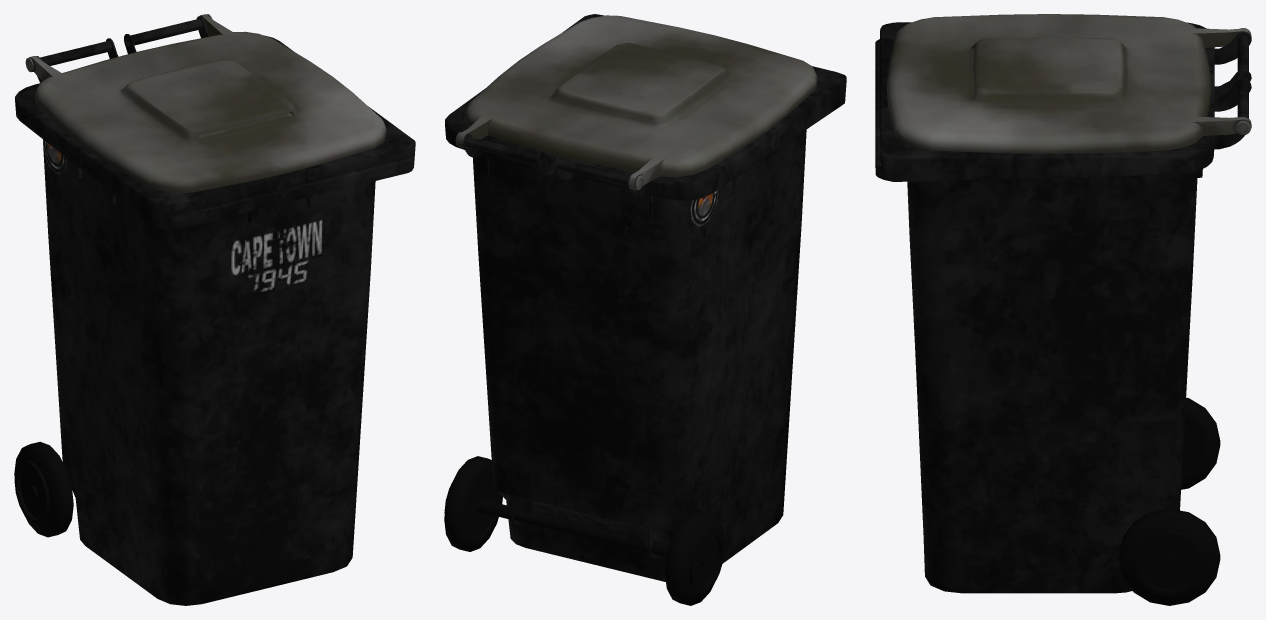
File: wheelie_bin.glb
The picture shows the model from 3 angles, left to right: view 1: azimuth 30°, elevation 25°; view 2: azimuth 150°, elevation 25°; view 3: azimuth 270°, elevation 25°; orthographic projection. The views are drawn at different scales.
Parts seen in each view (by area): view 1: Cylinder.004__0; view 2: Cylinder.004__0; view 3: Cylinder.004__0.
Part boxes in pixels (bbox=[...]): Cylinder.004__0: bbox=[14, 14, 415, 605]; Cylinder.004__0: bbox=[444, 14, 846, 605]; Cylinder.004__0: bbox=[875, 14, 1251, 605].
Size of the model in its own units: 0.6468 by 1.07 by 0.7574.
1 material, 1 textured.
